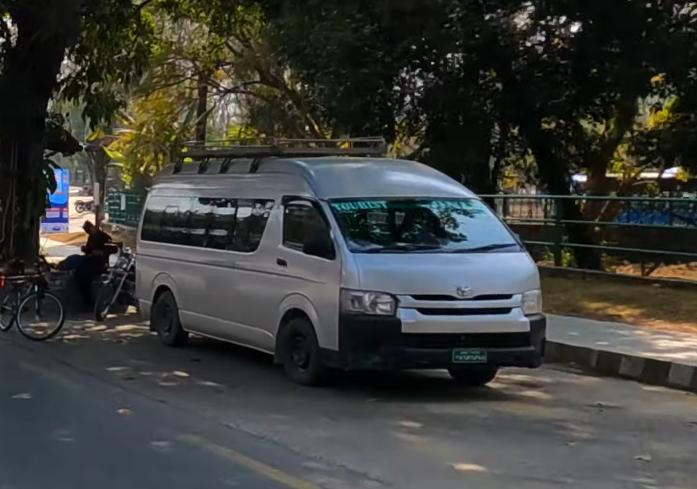micro_bus: (129, 138, 551, 391)
